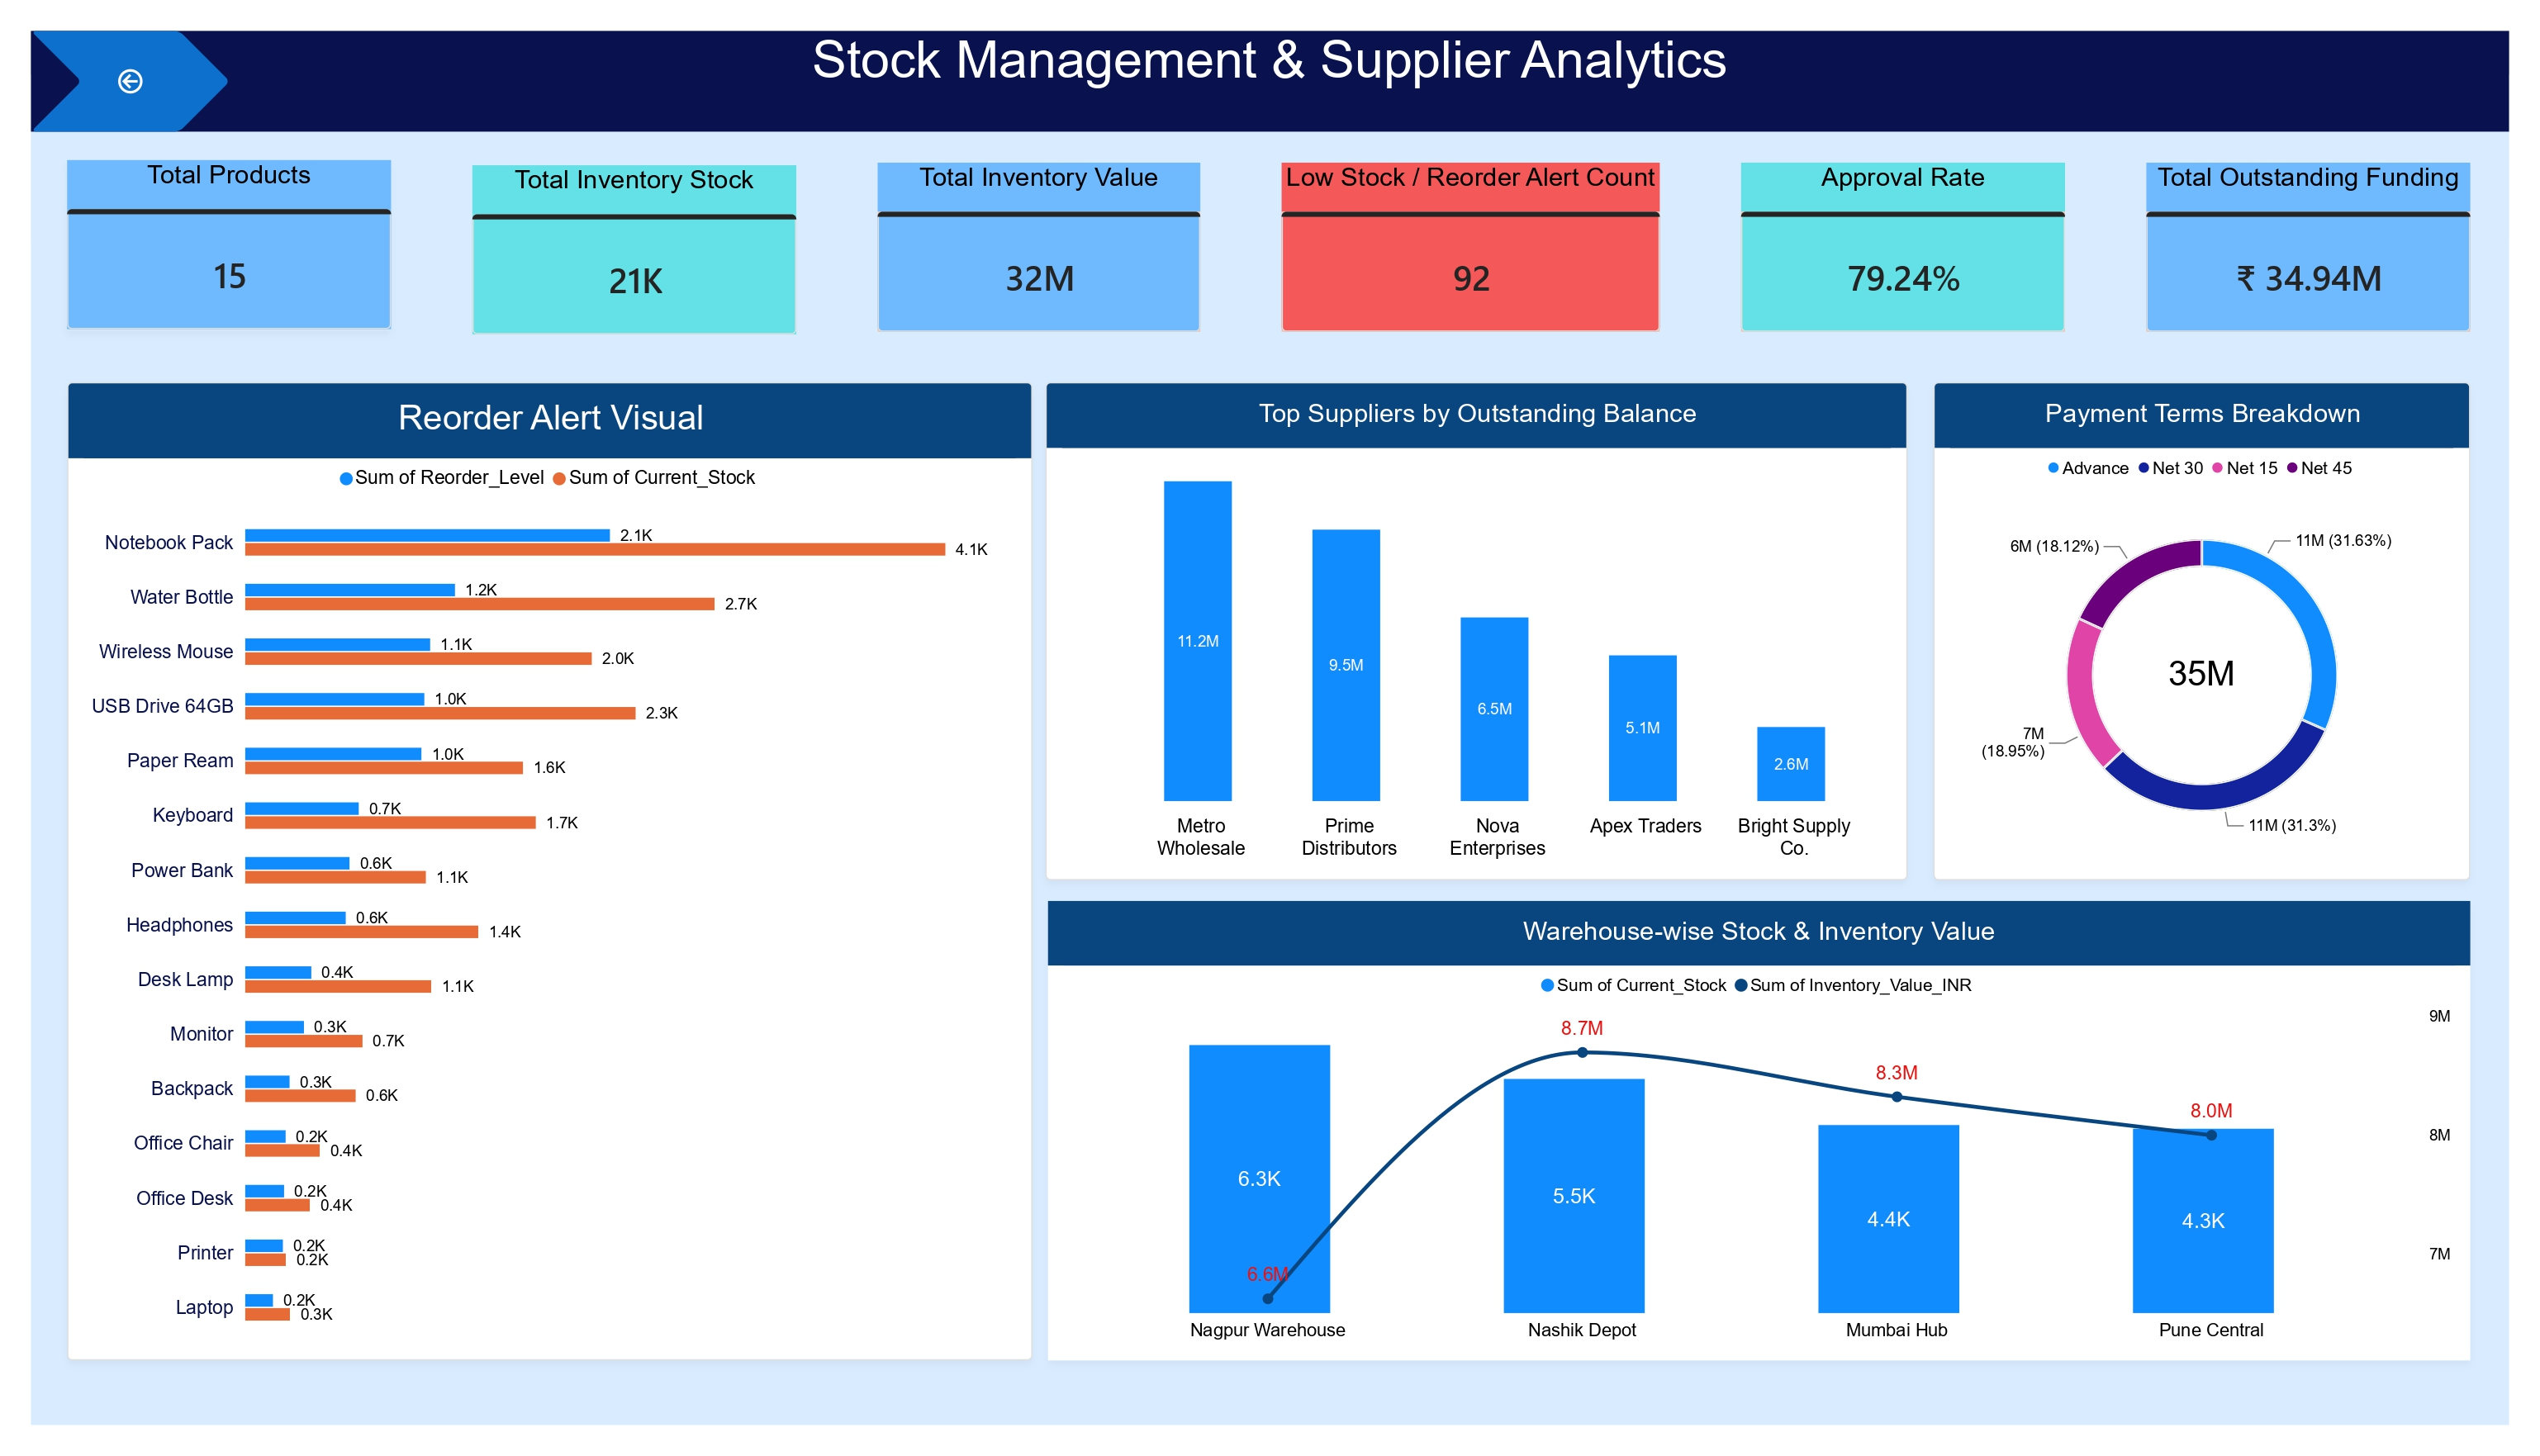

Layout of this report page (visuals, bound fields, positions):
{"tool":"powerbi","page":{"name":"Page 2","canvas":[1920,1080],"ordinal":1},"visuals":[{"type":"textbox","title":"Stock Management & Supplier Analytics","box":[0,0,1920,78],"z":0},{"type":"cardVisual","title":"Total Products","fields":{"Data":["Count(inventory_funding_system_dataset.Product_Name)"]},"box":[28,100,250.8,131.8],"z":0,"group":"g1"},{"type":"cardVisual","title":"Total Inventory Stock","fields":{"Data":["inventory_funding_system_dataset.Total Current Stock"]},"box":[341.8,104.2,250.8,131.8],"z":1000,"group":"g1"},{"type":"clusteredBarChart","title":"Reorder Alert Visual","fields":{"Category":["inventory_funding_system_dataset.Product_Name"],"Y":["Sum(inventory_funding_system_dataset.Reorder_Level)","Sum(inventory_funding_system_dataset.Current_Stock)"]},"box":[28,272,748,758],"z":1000},{"type":"cardVisual","title":"Total Inventory Value","fields":{"Data":["Sum(inventory_funding_system_dataset.Inventory_Value_INR)"]},"box":[655.6,102.1,250.8,131.8],"z":2000,"group":"g1"},{"type":"columnChart","title":"Top Suppliers by Outstanding Balance","fields":{"Category":["inventory_funding_system_dataset.Supplier"],"Y":["Sum(inventory_funding_system_dataset.Outstanding_Funding_INR)"]},"box":[786,272,668,386],"z":2000},{"type":"cardVisual","title":"Low Stock / Reorder Alert Count","fields":{"Data":["inventory_funding_system_dataset.Low Stock Count"]},"box":[969.5,102.4,292.9,131.2],"z":3000,"group":"g1"},{"type":"lineStackedColumnComboChart","title":"Warehouse-wise Stock & Inventory Value","fields":{"Category":["inventory_funding_system_dataset.Warehouse"],"Y":["Sum(inventory_funding_system_dataset.Current_Stock)"],"Y2":["Sum(inventory_funding_system_dataset.Inventory_Value_INR)"]},"box":[788,674,1102,356],"z":3000},{"type":"cardVisual","title":"Approval Rate","fields":{"Data":["inventory_funding_system_dataset.Approval Rate"]},"box":[1325.4,102.1,250.8,131.8],"z":4000,"group":"g1"},{"type":"donutChart","title":"Payment Terms Breakdown","fields":{"Category":["inventory_funding_system_dataset.Payment_Terms"],"Y":["Sum(inventory_funding_system_dataset.Outstanding_Funding_INR)"]},"box":[1474,272,416,386],"z":4000},{"type":"group","id":"g1","title":"Group 1","box":[28,100,1862,136],"z":5000},{"type":"cardVisual","title":"Total Outstanding Funding","fields":{"Data":["Sum(inventory_funding_system_dataset.Outstanding_Funding_INR)"]},"box":[1639.2,102.1,250.8,131.8],"z":5000,"group":"g1"},{"type":"actionButton","box":[0,0,154,78],"z":5001}]}

Visuals, with their boxes on the page's 1920x1080 design canvas (x1, y1, x2, y2). These are canvas units, not pixel positions in the 2540x1456 screenshot, which may show the page scaled, cropped or inside an application window:
"Stock Management & Supplier Analytics" textbox: {"x1": 0, "y1": 0, "x2": 1920, "y2": 78}
"Total Products" cardVisual: {"x1": 28, "y1": 100, "x2": 279, "y2": 232}
"Total Inventory Stock" cardVisual: {"x1": 342, "y1": 104, "x2": 593, "y2": 236}
"Reorder Alert Visual" clusteredBarChart: {"x1": 28, "y1": 272, "x2": 776, "y2": 1030}
"Total Inventory Value" cardVisual: {"x1": 656, "y1": 102, "x2": 906, "y2": 234}
"Top Suppliers by Outstanding Balance" columnChart: {"x1": 786, "y1": 272, "x2": 1454, "y2": 658}
"Low Stock / Reorder Alert Count" cardVisual: {"x1": 970, "y1": 102, "x2": 1262, "y2": 234}
"Warehouse-wise Stock & Inventory Value" lineStackedColumnComboChart: {"x1": 788, "y1": 674, "x2": 1890, "y2": 1030}
"Approval Rate" cardVisual: {"x1": 1325, "y1": 102, "x2": 1576, "y2": 234}
"Payment Terms Breakdown" donutChart: {"x1": 1474, "y1": 272, "x2": 1890, "y2": 658}
"Group 1" group: {"x1": 28, "y1": 100, "x2": 1890, "y2": 236}
"Total Outstanding Funding" cardVisual: {"x1": 1639, "y1": 102, "x2": 1890, "y2": 234}
actionButton: {"x1": 0, "y1": 0, "x2": 154, "y2": 78}
